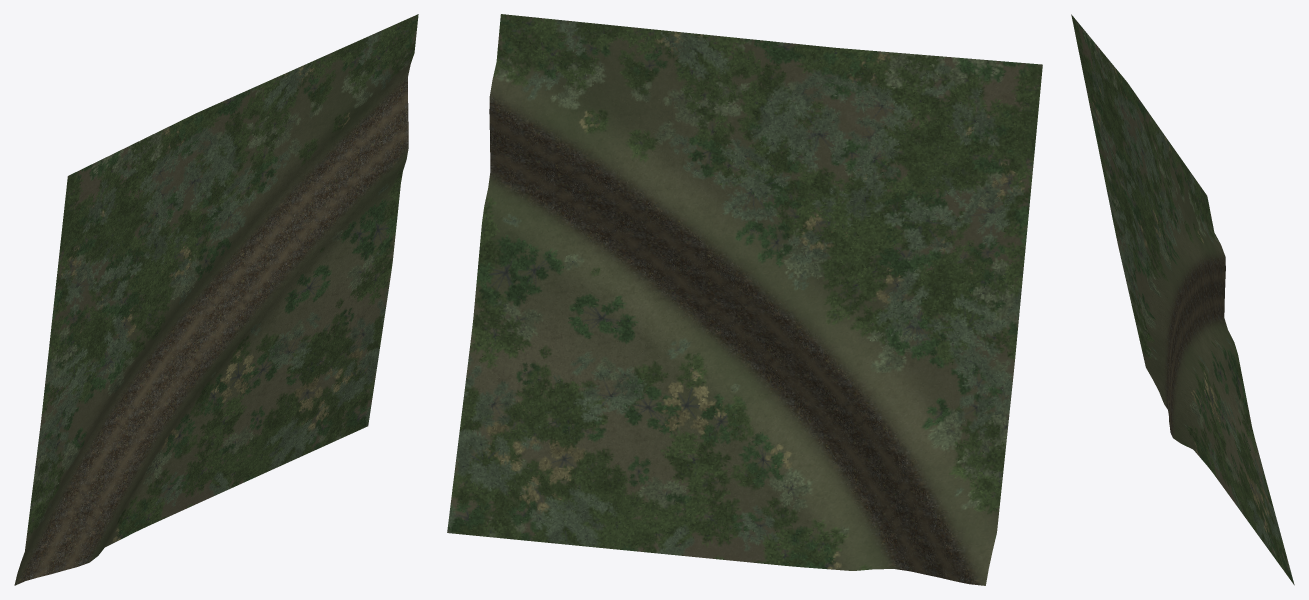
File: terrain_core_06_01.obj
The picture shows the model from 3 angles, left to right: view 1: azimuth 30°, elevation 25°; view 2: azimuth 150°, elevation 25°; view 3: azimuth 270°, elevation 25°; orthographic projection. The views are drawn at different scales.
Visible parts, largest first — view 1: terrain_core_06_01; view 2: terrain_core_06_01; view 3: terrain_core_06_01.
Part boxes in pixels (bbox=[...]): terrain_core_06_01: bbox=[14, 14, 418, 585]; terrain_core_06_01: bbox=[447, 14, 1042, 585]; terrain_core_06_01: bbox=[1071, 14, 1294, 585].
Size of the model in its own units: 32 by 32 by 16.63.
1 material, 1 textured.
